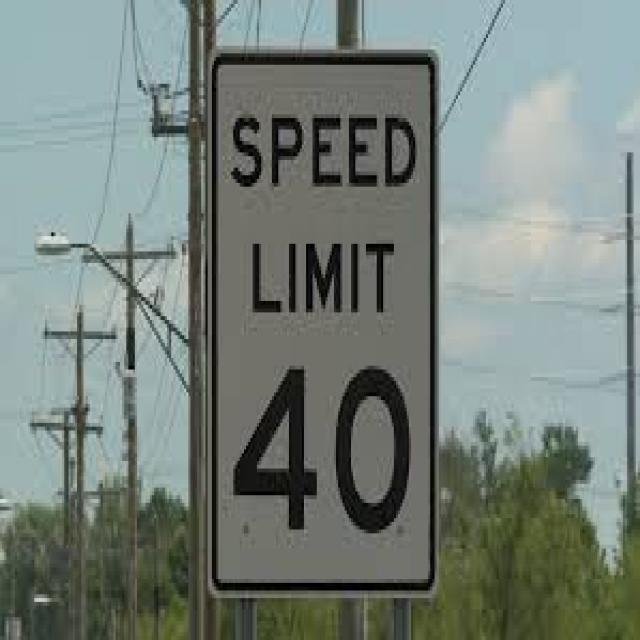speedLimit40: (207, 50, 436, 594)
